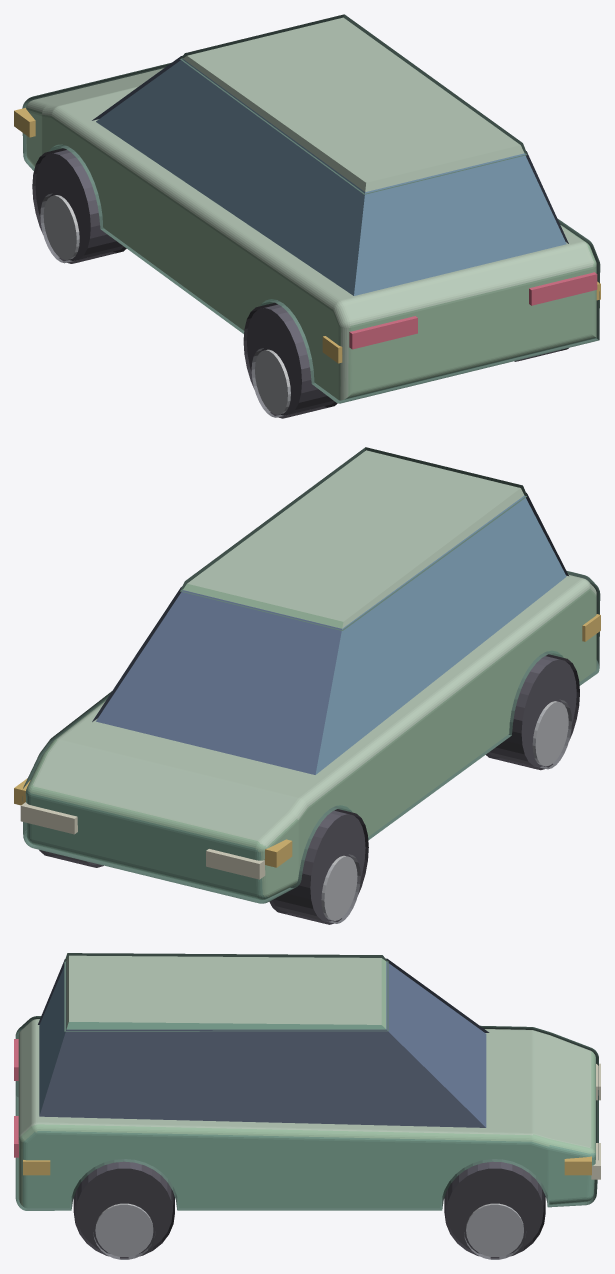
The model's file is traffic_hatch_3.glb.
3 renders of one model, top to bottom at view 1: azimuth 30°, elevation 25°; view 2: azimuth 150°, elevation 25°; view 3: azimuth 270°, elevation 25°, orthographic. The views are drawn at different scales.
Parts seen in each view (by area): view 1: car, blink; view 2: car, blink; view 3: car, blink.
Part boxes in pixels (x1=…): car: x1=22, y1=14, x2=600, y2=418; blink: x1=14, y1=108, x2=600, y2=363; car: x1=20, y1=447, x2=600, y2=924; blink: x1=14, y1=614, x2=600, y2=867; car: x1=14, y1=953, x2=600, y2=1259; blink: x1=23, y1=1156, x2=591, y2=1175.
Size of the model in its own units: 1.91 by 1.55 by 3.88.
